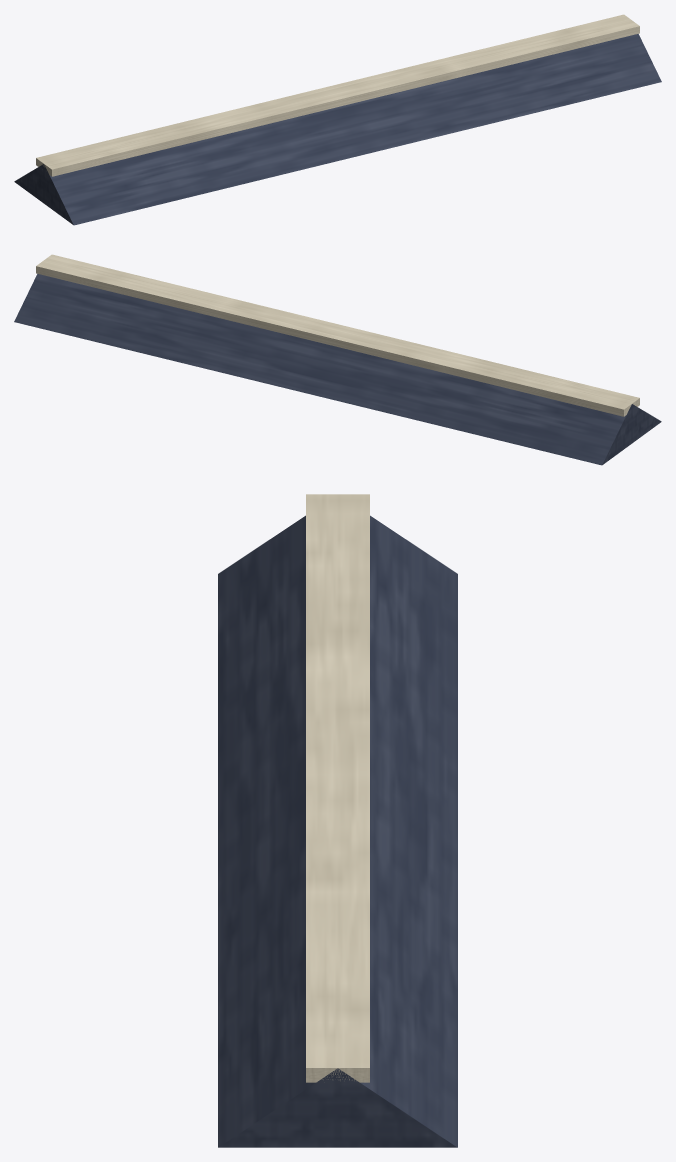
The model's file is house_02_roof_ridge.glb.
3 renders of one model, top to bottom at view 1: azimuth 30°, elevation 25°; view 2: azimuth 150°, elevation 25°; view 3: azimuth 270°, elevation 25°, orthographic. The views are drawn at different scales.
Visible parts, largest first — view 1: outdoor_house_02_roof_ridge; view 2: outdoor_house_02_roof_ridge; view 3: outdoor_house_02_roof_ridge.
Part boxes in pixels (x1,y1,x2,y2): outdoor_house_02_roof_ridge: [14, 14, 661, 225]; outdoor_house_02_roof_ridge: [14, 254, 661, 465]; outdoor_house_02_roof_ridge: [218, 494, 457, 1147].
Size of the model in its own units: 3.4 by 0.22 by 0.6.
1 material, 1 textured.
